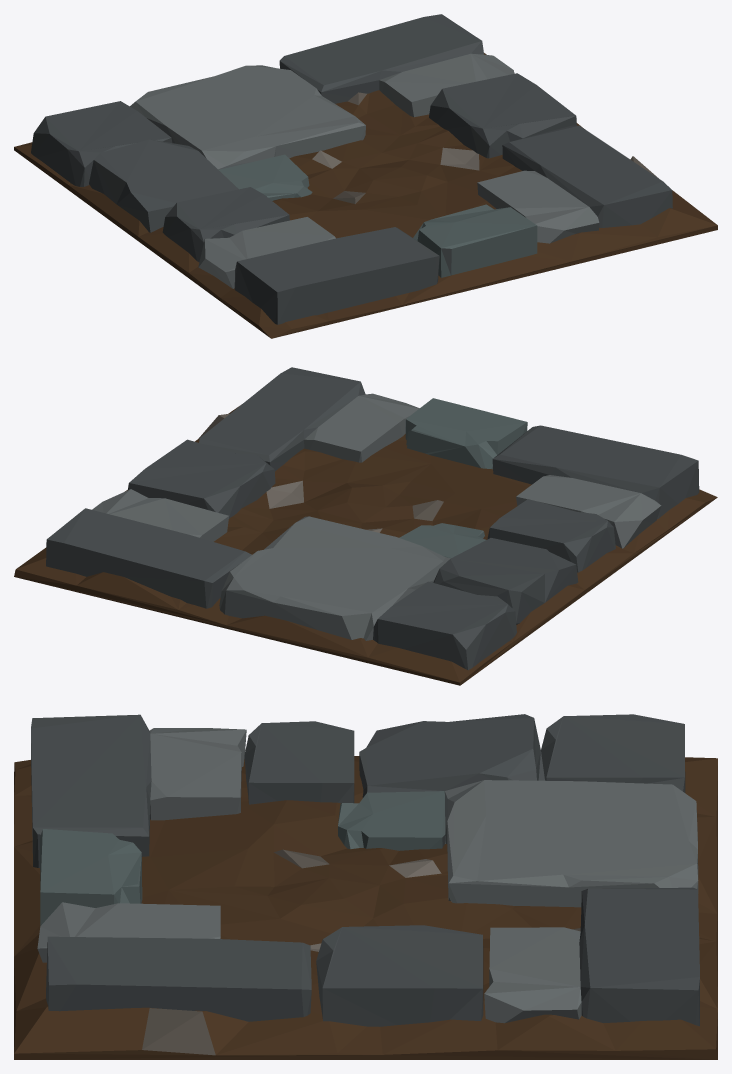
File: MDungeon_SoilGroundTile_Stone_04.FBX
3 renders of one model, top to bottom at view 1: azimuth 30°, elevation 25°; view 2: azimuth 150°, elevation 25°; view 3: azimuth 270°, elevation 25°, orthographic. The views are drawn at different scales.
Parts seen in each view (by area): view 1: MDungeon_SoilGroundTile_Stone_04_LOD0; view 2: MDungeon_SoilGroundTile_Stone_04_LOD0; view 3: MDungeon_SoilGroundTile_Stone_04_LOD0.
Boxes of the visible parts, left/top/right/bottom form: MDungeon_SoilGroundTile_Stone_04_LOD0: left=14, top=14, right=717, bottom=338; MDungeon_SoilGroundTile_Stone_04_LOD0: left=14, top=367, right=717, bottom=685; MDungeon_SoilGroundTile_Stone_04_LOD0: left=14, top=714, right=717, bottom=1059.
Size of what is drawn, in the model's own units: 6.27 by 0.616 by 6.27.
